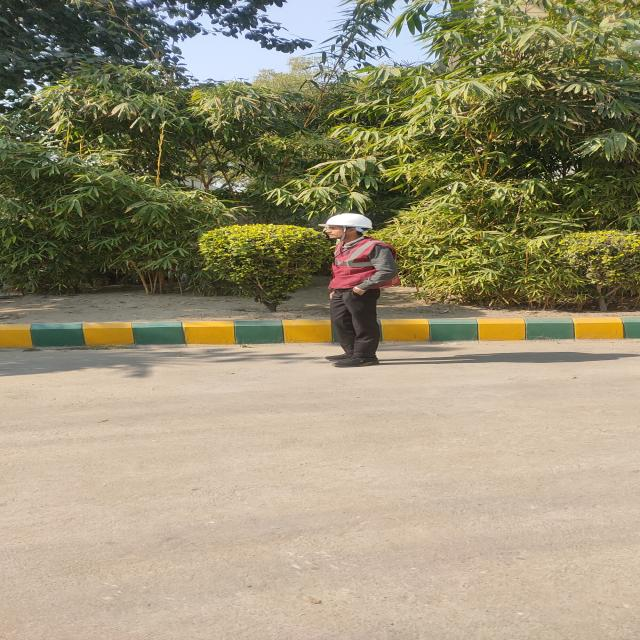safe: (318, 213, 400, 367)
